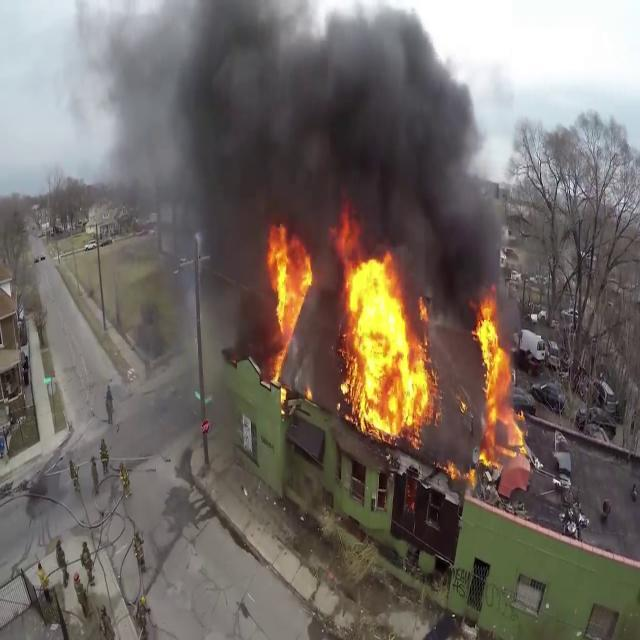Fire: (334, 246, 438, 443), (472, 293, 527, 463), (261, 222, 315, 382)
Smoke: (89, 0, 511, 284)
